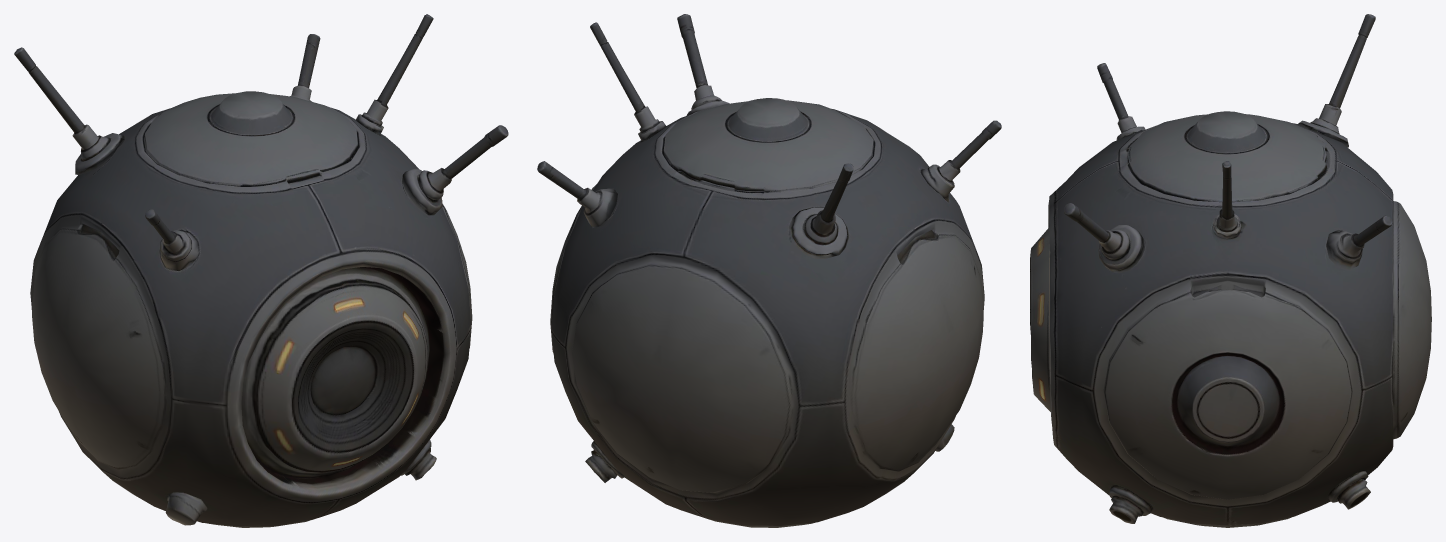
The model's file is kino.glb.
The picture shows the model from 3 angles, left to right: view 1: azimuth 30°, elevation 25°; view 2: azimuth 150°, elevation 25°; view 3: azimuth 270°, elevation 25°; orthographic projection. The views are drawn at different scales.
Visible parts, largest first — view 1: kino; view 2: kino; view 3: kino.
Boxes of the visible parts, <box> form: kino: <box>14,14,508,527</box>; kino: <box>537,14,1001,527</box>; kino: <box>1030,14,1431,527</box>.
Bounding box in the file's own units: 0.8926 × 0.998 × 0.8535.
1 material, 1 textured.
